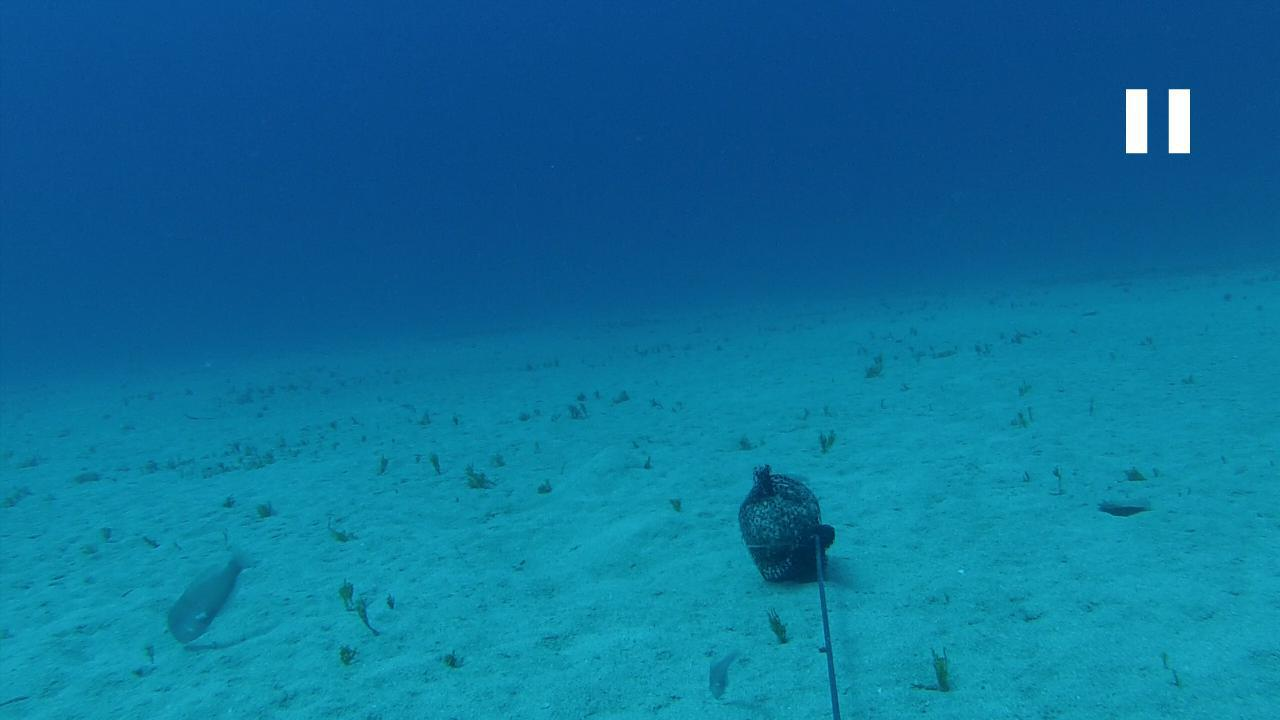bothus: (1090, 493, 1156, 517)
raor: (164, 541, 260, 648)
